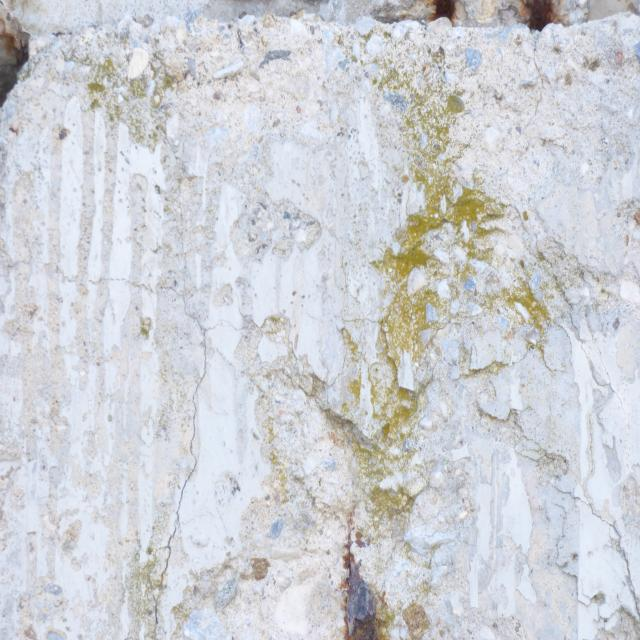corrosion: (329, 496, 399, 640), (513, 0, 557, 40), (425, 0, 464, 22)
